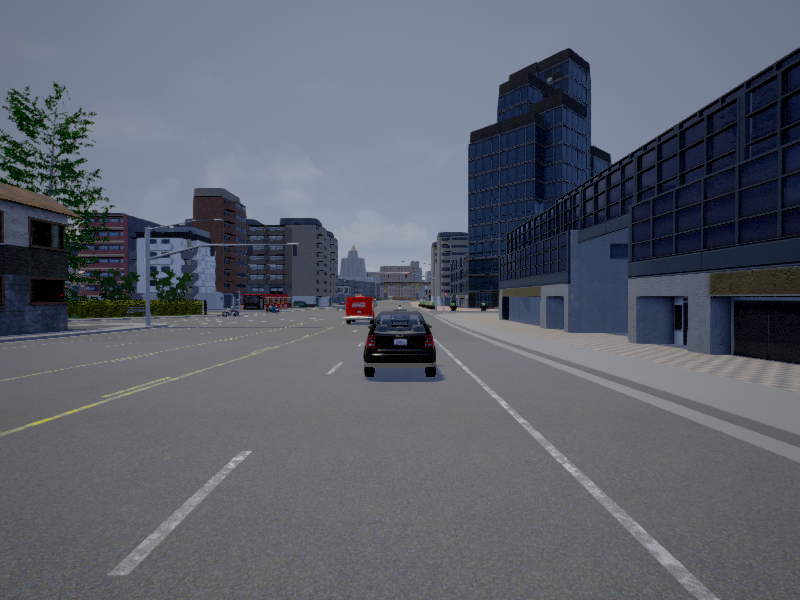Benign: (362, 311, 438, 376), (346, 297, 376, 323)
